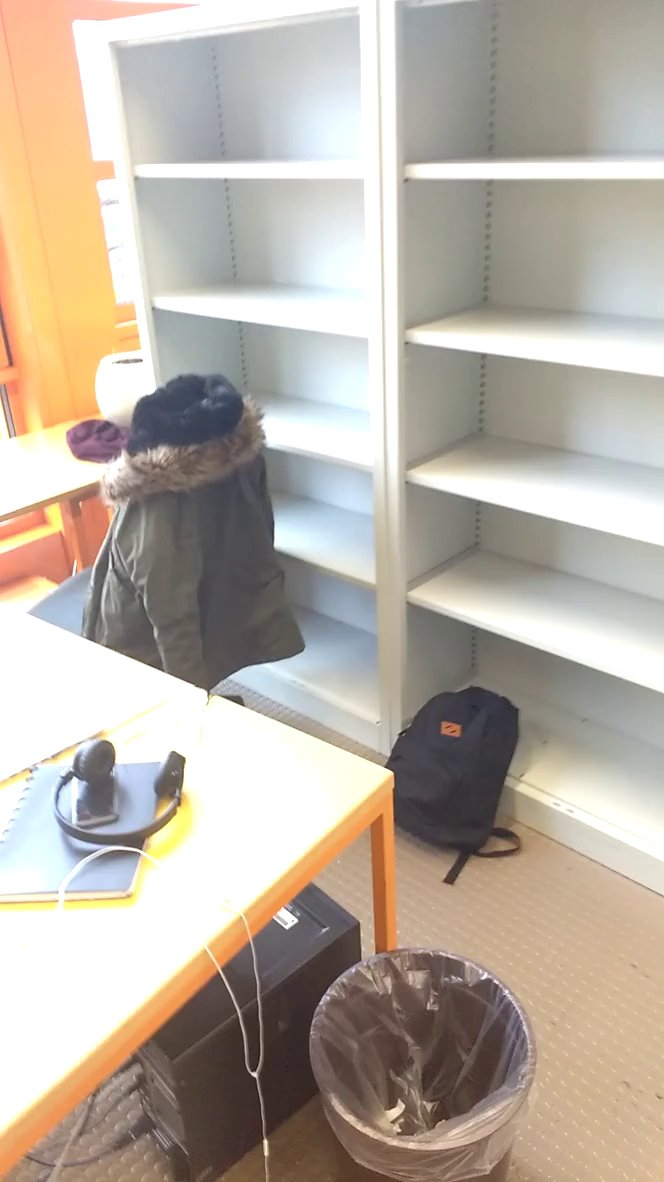bag: (369, 670, 530, 874)
bin: (293, 939, 566, 1182)
